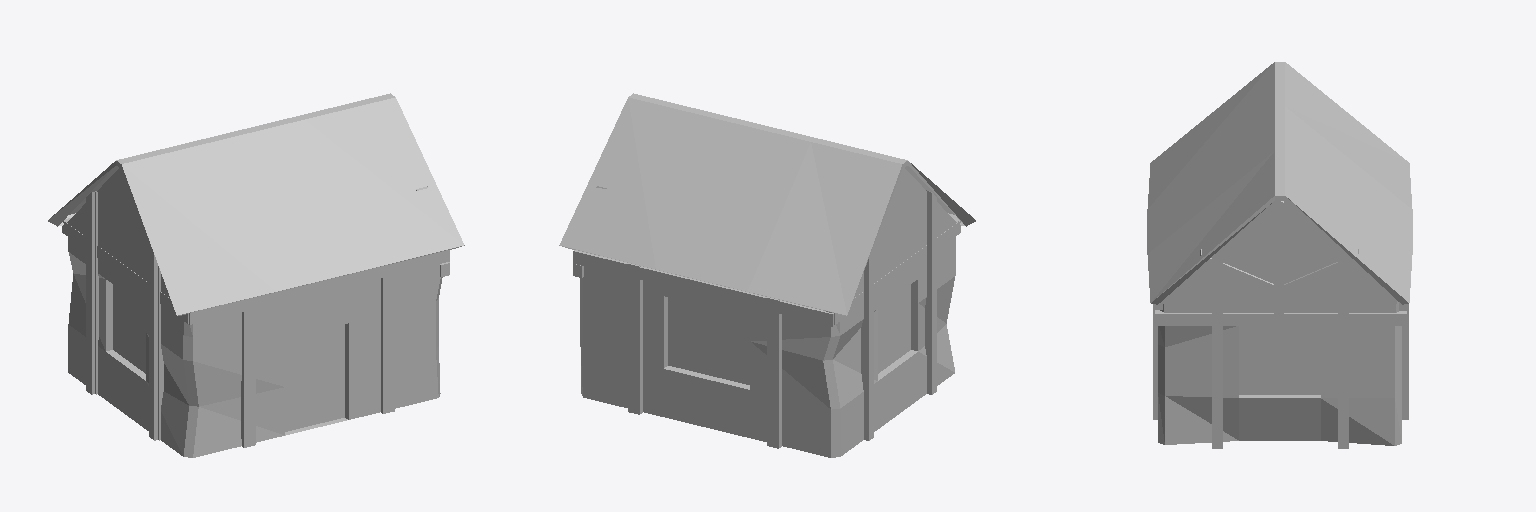
Rendered from house.obj.
The picture shows the model from 3 angles: view 1: azimuth 30°, elevation 25°; view 2: azimuth 150°, elevation 25°; view 3: azimuth 270°, elevation 25°; orthographic projection.
Parts seen in each view (by area): view 1: Box024_2_Mesh.007; view 2: Box024_2_Mesh.007; view 3: Box024_2_Mesh.007.
Boxes of the visible parts, <box> form: Box024_2_Mesh.007: <box>48,93,464,457</box>; Box024_2_Mesh.007: <box>559,93,975,457</box>; Box024_2_Mesh.007: <box>1147,62,1412,448</box>.
Size of the model in its own units: 0.1857 by 0.1567 by 0.148.